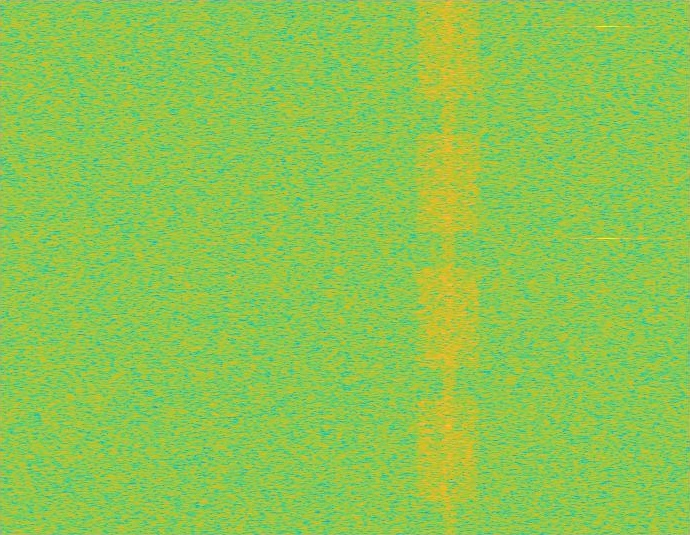5G: (414, 0, 483, 534)
DSSS: (441, 0, 456, 534)
Radar: (601, 0, 615, 534)
